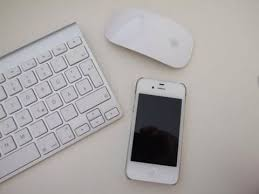mobil: (123, 75, 189, 186)
